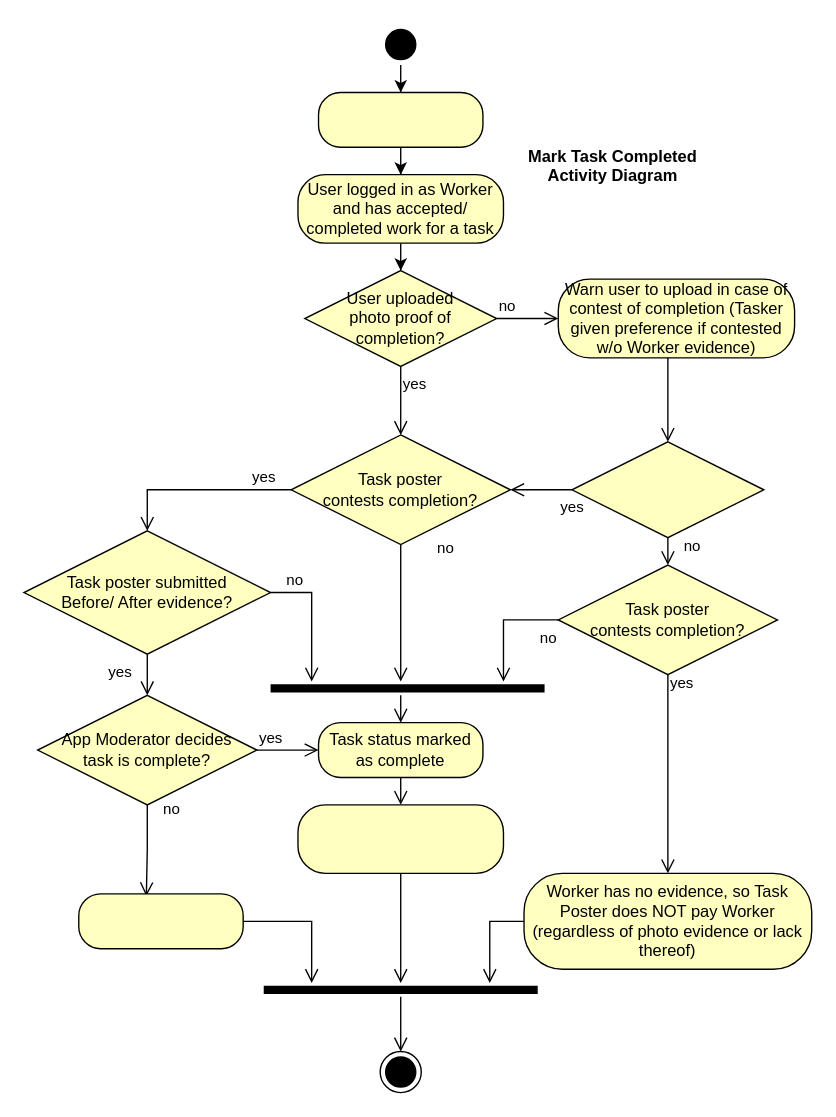
The diagram is 836 pixels wide and 1117 high, and some of its shapes have lost their labels. The box of each missing label's shape, as (x1, y1, x2, y2) in pixels:
Task moved to Completed/ Previous task list. Worker is paid by Tasker.: (297, 804, 503, 873)
Task poster doesn't have to pay: (77, 893, 243, 949)
User has uploaded photo?: (571, 440, 764, 538)
User wants to mark a task as completed: (317, 91, 483, 147)
